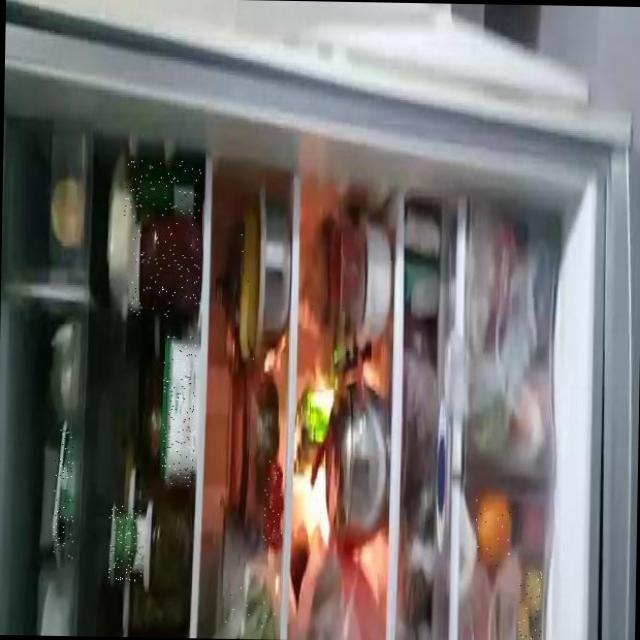Lechuga/Endivia: (223, 586, 276, 640)
Queso: (161, 335, 197, 486)
Yogur: (108, 504, 144, 581)
